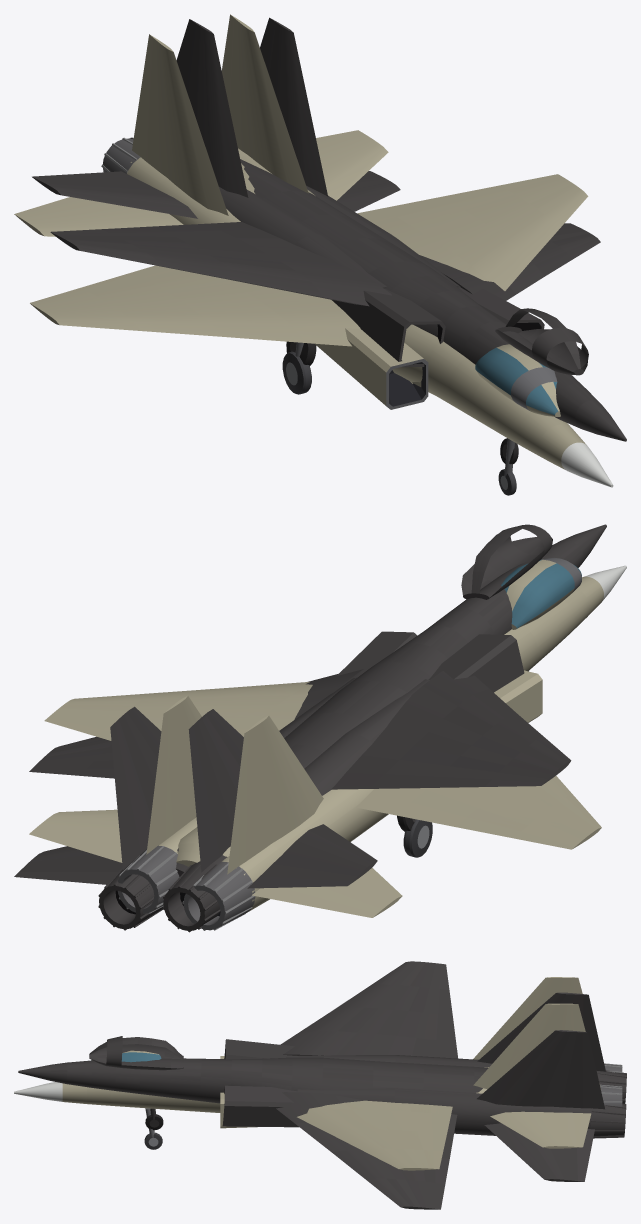
Rendered from jet__f_15c_baz.glb.
The picture shows the model from 3 angles, top to bottom: view 1: azimuth 30°, elevation 25°; view 2: azimuth 150°, elevation 25°; view 3: azimuth 270°, elevation 25°; orthographic projection. The views are drawn at different scales.
Visible parts, largest first — view 1: Fuselage_Mesh, Wreck; view 2: Wreck, Fuselage_Mesh; view 3: Wreck, Fuselage_Mesh.
Boxes of the visible parts, bbox=[...] form: Fuselage_Mesh: bbox=[14, 14, 613, 495]; Wreck: bbox=[32, 17, 626, 464]; Wreck: bbox=[14, 524, 606, 932]; Fuselage_Mesh: bbox=[29, 558, 626, 930]; Wreck: bbox=[18, 961, 626, 1209]; Fuselage_Mesh: bbox=[14, 977, 622, 1170].
Size of what is drawn, in the model's own units: 13.4 by 5.61 by 19.63.
